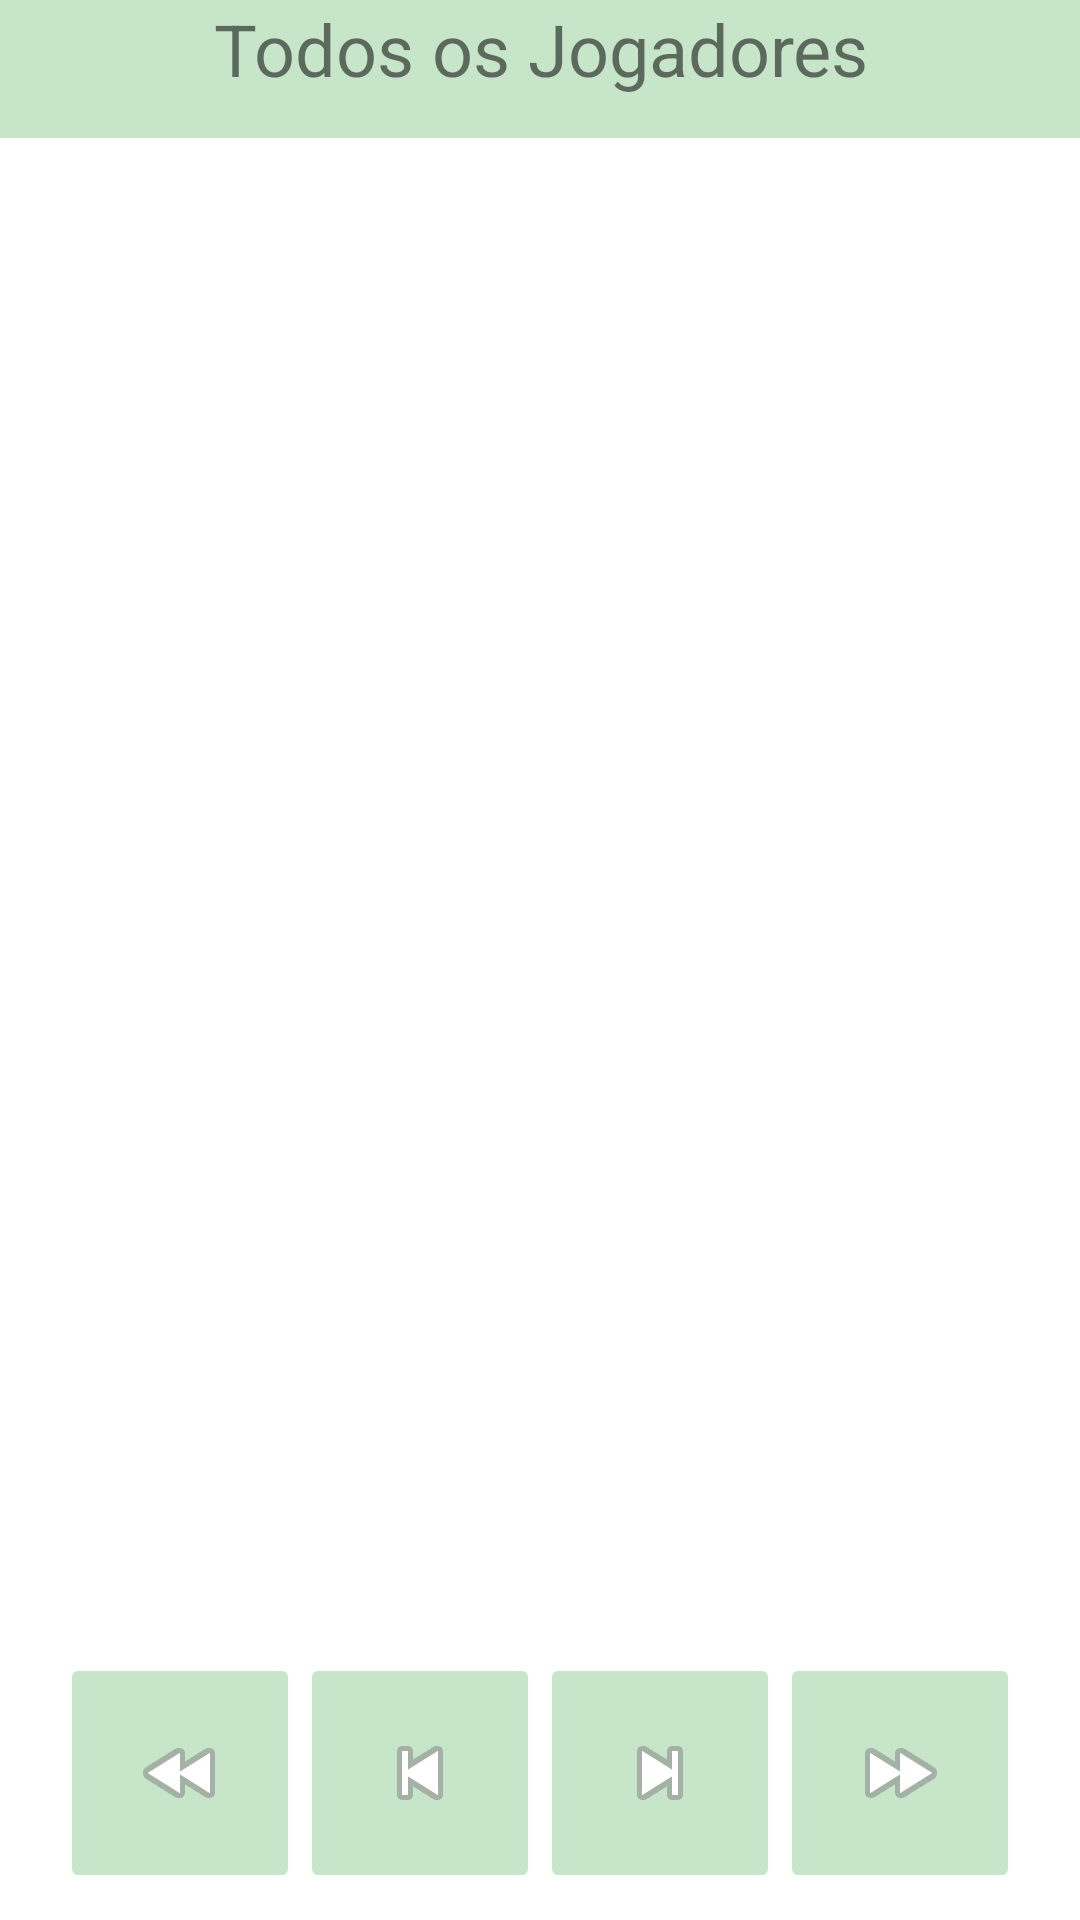

Icons on this 1080 x 1920 Android screen, each with the point to tap as (x,y):
Botão Anterior: (420,1773)
Botão Primeiro: (180,1773)
Botão Próximo: (660,1773)
Botão Último: (900,1773)
